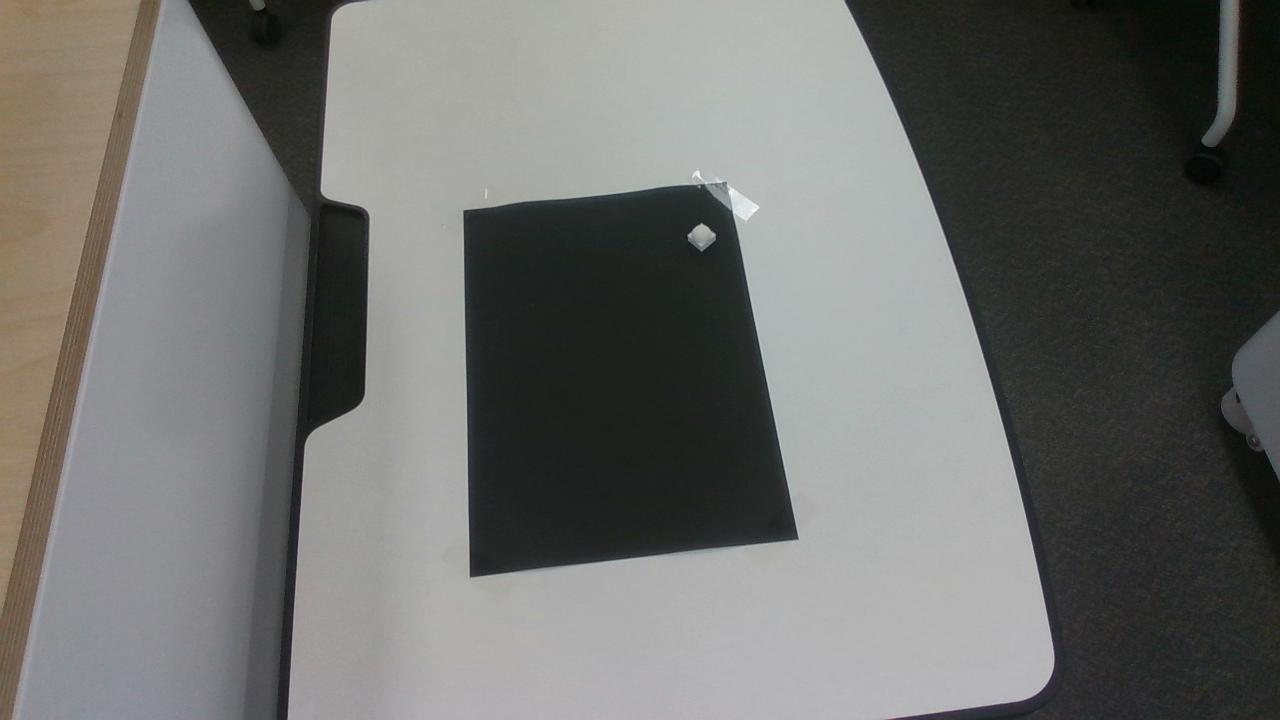cube: (688, 224, 715, 251)
